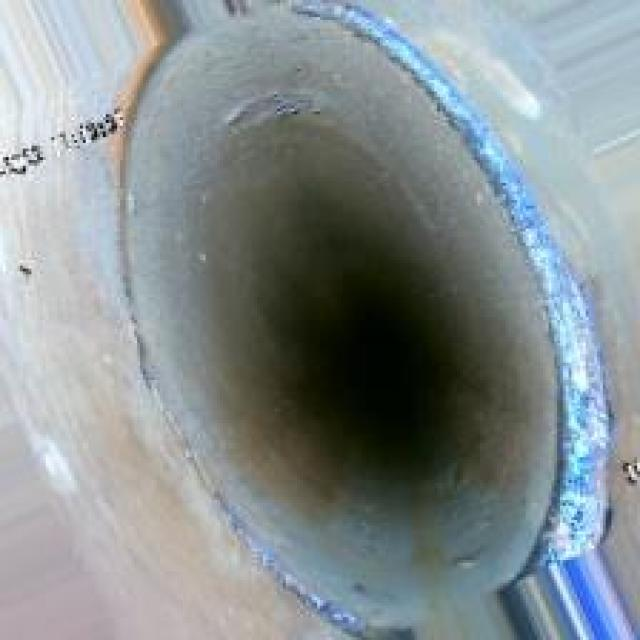joint: (115, 8, 594, 606)
